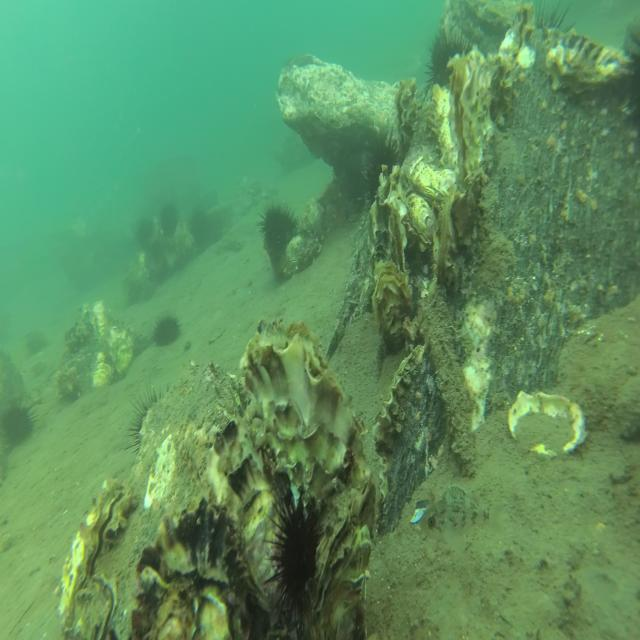echinus: (261, 478, 327, 627), (424, 24, 488, 93), (124, 378, 171, 470), (364, 125, 402, 217), (255, 197, 301, 256), (0, 402, 42, 448), (533, 0, 578, 33), (149, 313, 184, 347), (156, 199, 180, 238), (190, 206, 211, 245), (136, 215, 155, 252), (151, 239, 161, 258)
